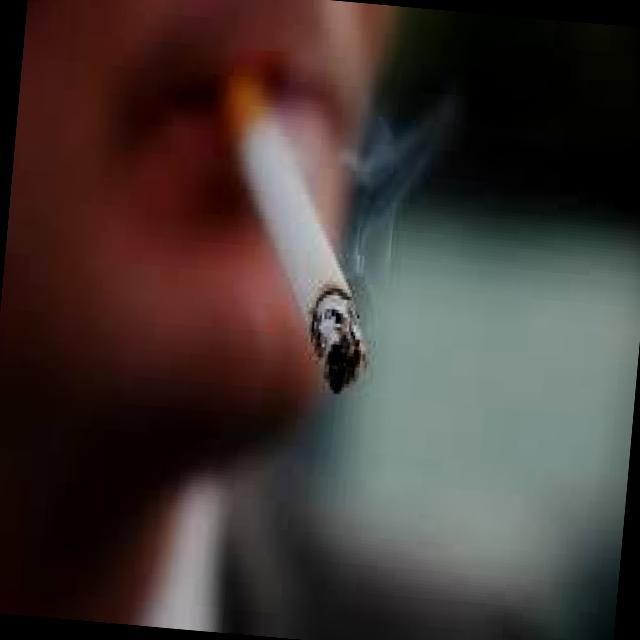cigarette: (185, 42, 398, 400)
